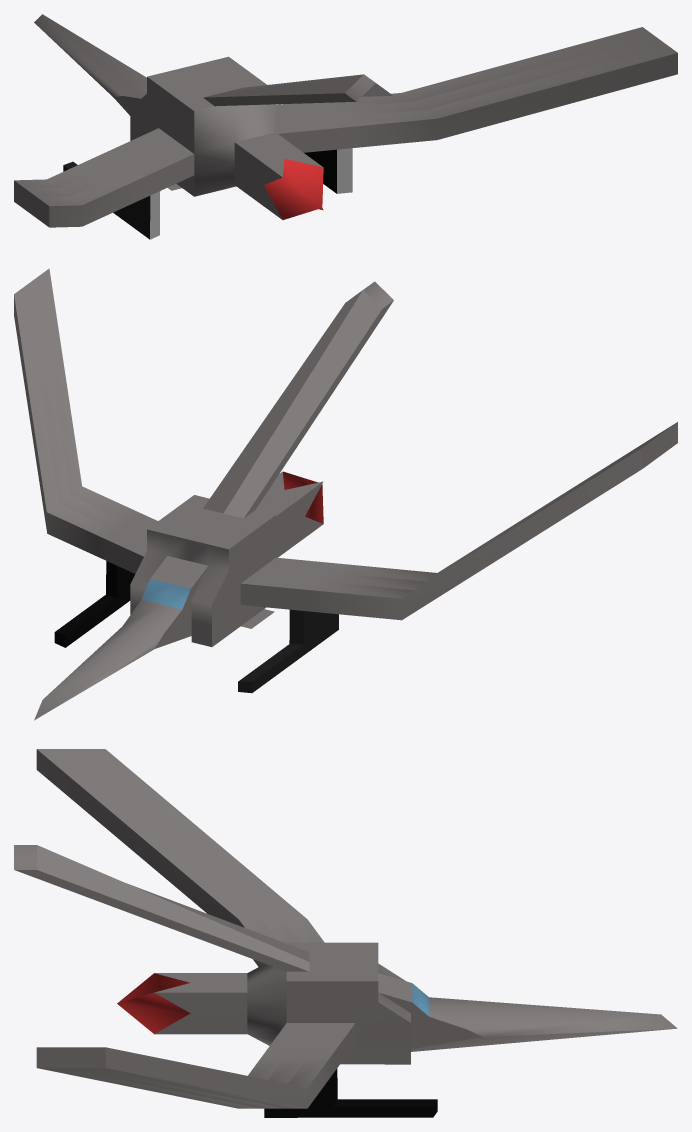
The model's file is Aircraft123321.fbx.
The picture shows the model from 3 angles, top to bottom: view 1: azimuth 30°, elevation 25°; view 2: azimuth 150°, elevation 25°; view 3: azimuth 270°, elevation 25°; orthographic projection. The views are drawn at different scales.
Visible parts, largest first — view 1: pCube1; view 2: pCube1; view 3: pCube1.
Boxes of the visible parts, <box> form: pCube1: <box>14,14,677,239</box>; pCube1: <box>14,268,677,720</box>; pCube1: <box>14,749,677,1117</box>.
Bounding box in the file's own units: 23.05 × 8.04 × 21.69.
